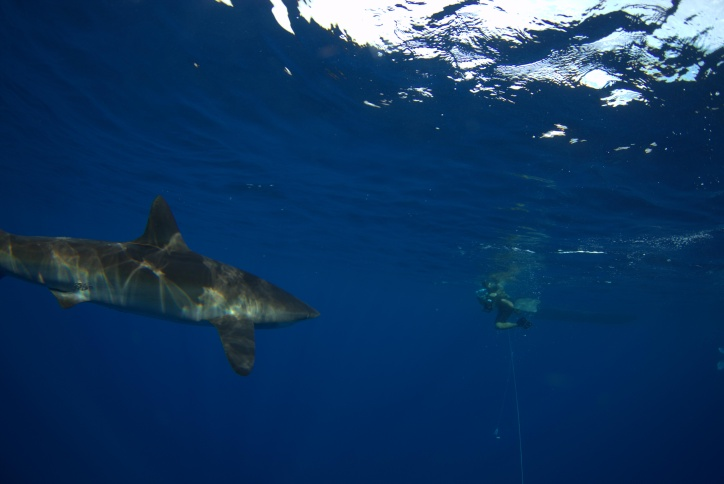Sedoso: (1, 182, 327, 389)
